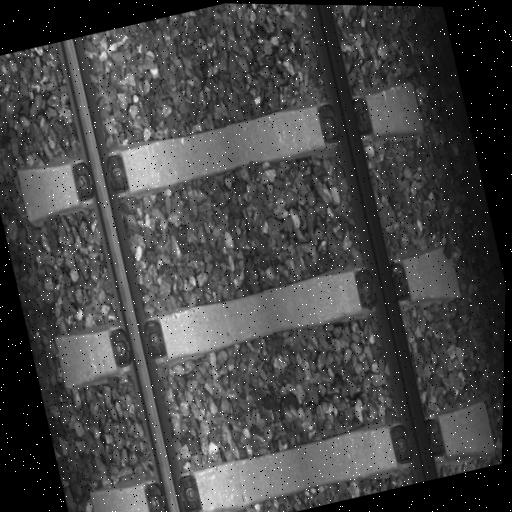clips: (387, 410, 451, 475), (107, 315, 170, 377), (315, 95, 376, 156), (68, 152, 133, 207), (352, 261, 412, 318), (142, 468, 206, 512)
sleepers: (16, 74, 427, 236), (52, 240, 463, 396), (88, 392, 497, 512)
